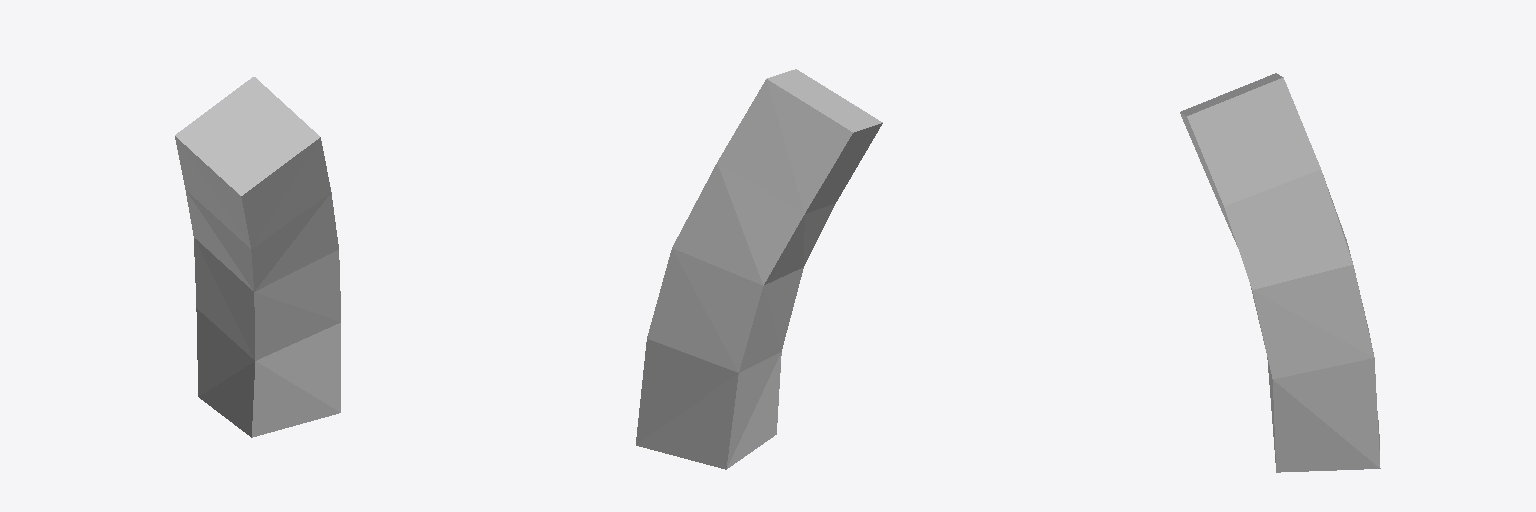
Rendered from wiggle_000045.obj.
3 renders of one model, left to right at view 1: azimuth 30°, elevation 25°; view 2: azimuth 150°, elevation 25°; view 3: azimuth 270°, elevation 25°, orthographic.
Parts seen in each view (by area): view 1: Cube; view 2: Cube; view 3: Cube.
Part boxes in pixels (left/top/right/bottom): Cube: left=175, top=77, right=340, bottom=437; Cube: left=636, top=69, right=882, bottom=469; Cube: left=1180, top=73, right=1380, bottom=472.
Bounding box in the file's own units: 3.69 × 7.55 × 3.85.